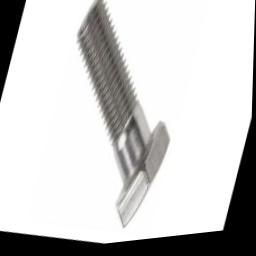Non-corroded-Bolts: (77, 0, 172, 231)
